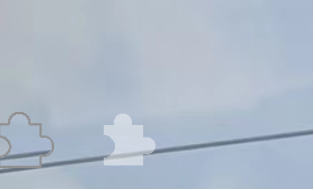target: (102, 113, 159, 167)
